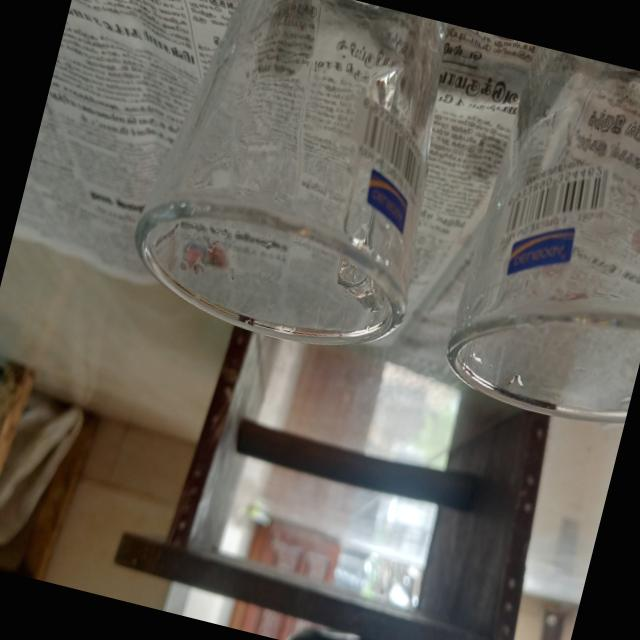glass-VX4N: (114, 0, 473, 367), (430, 39, 640, 439)
